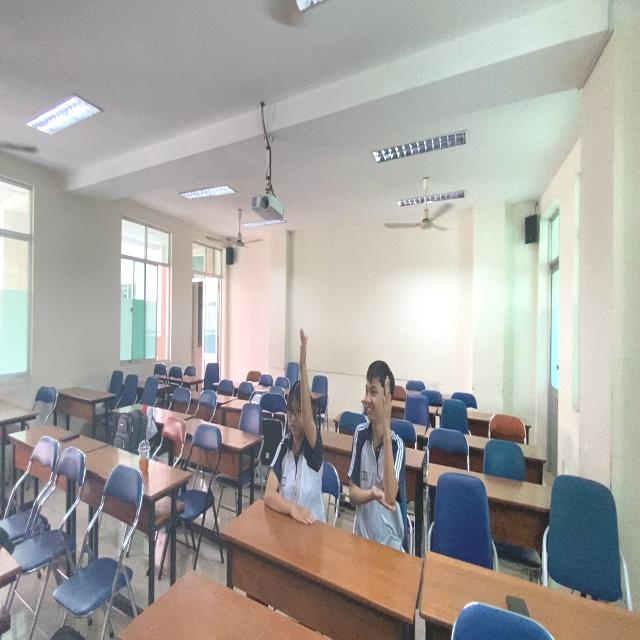raise_hand: (263, 322, 328, 535), (342, 354, 410, 553)
